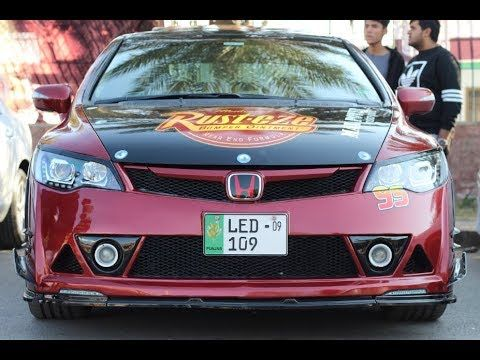plate: (198, 209, 291, 259)
